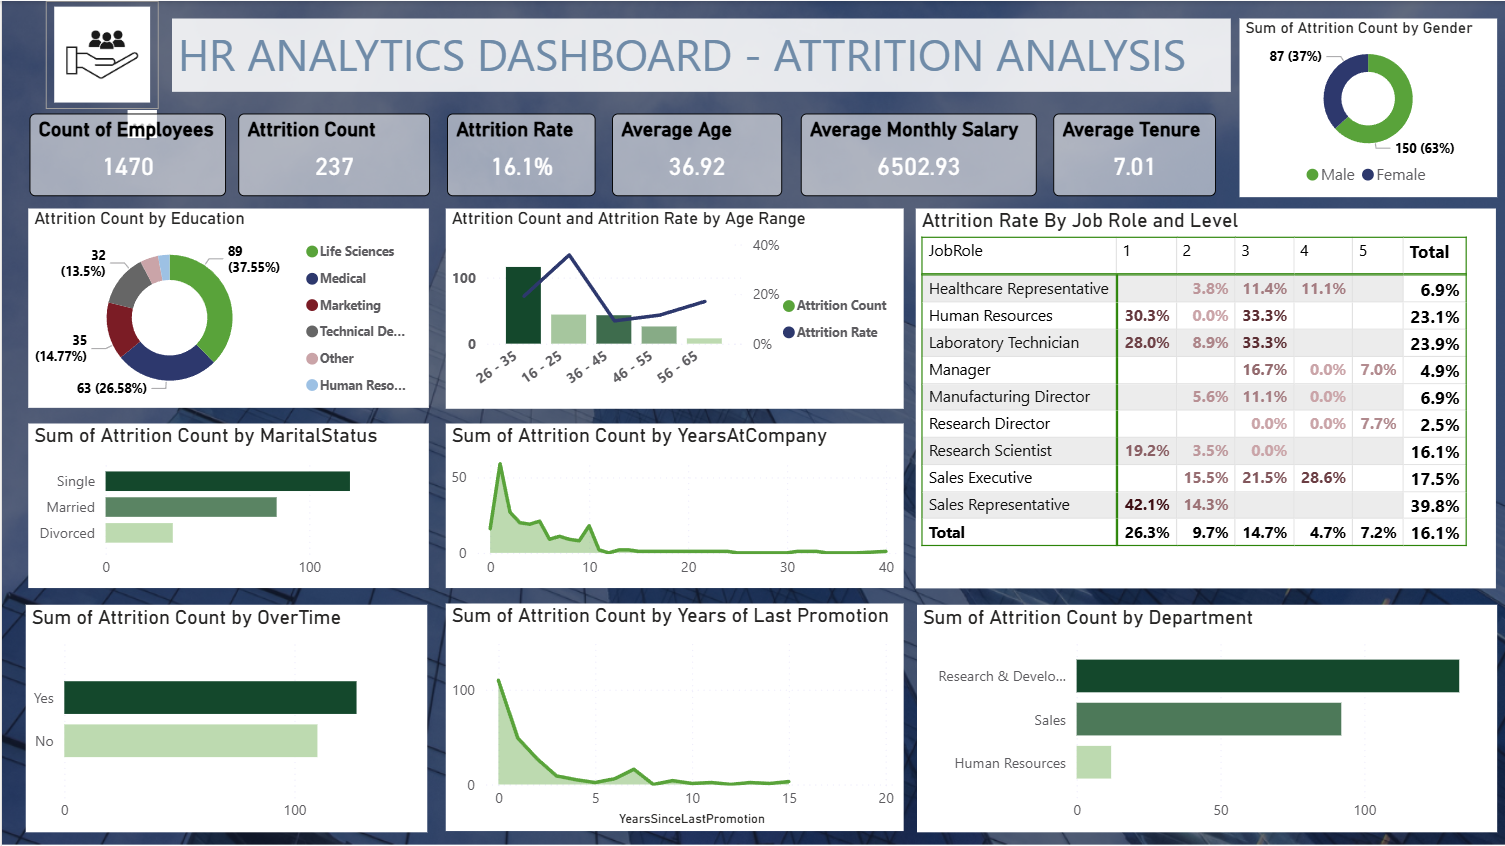

The page's visual inventory and layout, read from the dashboard file:
{"tool":"powerbi","page":{"name":"Page 1","canvas":[1280,720],"ordinal":0},"visuals":[{"type":"image","box":[37.4,0,95.6,91.5],"z":0},{"type":"textbox","box":[144.5,14.5,901,62.4],"z":1000},{"type":"card","title":"Count of Employees","fields":{"Values":["Count(HR_Project_Power BI.EmployeeNumber)"]},"box":[23.7,96,167.3,70.7],"z":2000},{"type":"card","title":"Attrition Count","fields":{"Values":["Sum(HR_Project_Power BI.Attrition Count)"]},"box":[201.4,96,163.2,70.7],"z":3000},{"type":"card","title":"Attrition Rate","fields":{"Values":["HR_Project_Power BI.Attrition Rate"]},"box":[378.1,96,126.8,70.7],"z":4000},{"type":"card","title":"Average Age","fields":{"Values":["Avg(HR_Project_Power BI.Age)"]},"box":[519.4,96,144.5,70.7],"z":5000},{"type":"card","title":"Average Monthly Salary","fields":{"Values":["Avg(HR_Project_Power BI.MonthlyIncome)"]},"box":[679.5,96,200.6,70.7],"z":6000},{"type":"card","title":"Average Tenure","fields":{"Values":["Avg(HR_Project_Power BI.YearsAtCompany)"]},"box":[894.6,96,138.2,70.7],"z":7000},{"type":"donutChart","fields":{"Y":["Sum(HR_Project_Power BI.Attrition Count)"],"Category":["HR_Project_Power BI.Gender"]},"box":[1052.8,14.5,219.3,151.7],"z":8000},{"type":"donutChart","fields":{"Y":["Sum(HR_Project_Power BI.Attrition Count)"],"Category":["HR_Project_Power BI.EducationField"]},"box":[22.9,176.7,340.9,169.4],"z":9000},{"type":"lineStackedColumnComboChart","fields":{"Category":["HR_Project_Power BI.Range"],"Y":["Sum(HR_Project_Power BI.Attrition Count)"],"Y2":["HR_Project_Power BI.Attrition Rate"]},"box":[377.5,176.2,389.5,170.2],"z":10000},{"type":"pivotTable","title":"Attrition Rate By Job Role and Level","fields":{"Rows":["HR_Project_Power BI.JobRole"],"Values":["HR_Project_Power BI.Attrition Rate"],"Columns":["HR_Project_Power BI.JobLevel"]},"box":[777.8,176.2,493.8,323.6],"z":11000},{"type":"areaChart","fields":{"Category":["HR_Project_Power BI.YearsAtCompany"],"Y":["Sum(HR_Project_Power BI.Attrition Count)"]},"box":[377.3,359.6,389.7,140.3],"z":12000},{"type":"clusteredBarChart","fields":{"Y":["Sum(HR_Project_Power BI.Attrition Count)"],"Category":["HR_Project_Power BI.MaritalStatus"]},"box":[22.9,359.6,340.9,140.3],"z":13000},{"type":"clusteredBarChart","fields":{"Y":["Sum(HR_Project_Power BI.Attrition Count)"],"Category":["HR_Project_Power BI.OverTime"]},"box":[20.1,513.8,341.7,193.4],"z":14000},{"type":"areaChart","title":"Sum of Attrition Count by Years of Last Promotion","fields":{"Category":["HR_Project_Power BI.YearsSinceLastPromotion"],"Y":["Sum(HR_Project_Power BI.Attrition Count)"]},"box":[377.2,513.1,389.4,193.9],"z":15000},{"type":"clusteredBarChart","fields":{"Y":["Sum(HR_Project_Power BI.Attrition Count)"],"Category":["HR_Project_Power BI.Department"]},"box":[778.4,513.4,493.7,193.3],"z":16000}]}

Visuals, with their boxes in screenshot pixels (x1, y1, x2, y2), scaled from the page's 1280x720 canvas onto the 1505x846 screenshot:
image: l=44, t=0, r=156, b=108
textbox: l=170, t=17, r=1229, b=90
"Count of Employees" card: l=28, t=113, r=225, b=196
"Attrition Count" card: l=237, t=113, r=429, b=196
"Attrition Rate" card: l=445, t=113, r=594, b=196
"Average Age" card: l=611, t=113, r=781, b=196
"Average Monthly Salary" card: l=799, t=113, r=1035, b=196
"Average Tenure" card: l=1052, t=113, r=1214, b=196
donutChart - Sum(HR_Project_Power BI.Attrition Count) x HR_Project_Power BI.Gender: l=1238, t=17, r=1496, b=195
donutChart - Sum(HR_Project_Power BI.Attrition Count) x HR_Project_Power BI.EducationField: l=27, t=208, r=428, b=407
lineStackedColumnComboChart - HR_Project_Power BI.Range x Sum(HR_Project_Power BI.Attrition Count): l=444, t=207, r=902, b=407
"Attrition Rate By Job Role and Level" pivotTable: l=915, t=207, r=1495, b=587
areaChart - HR_Project_Power BI.YearsAtCompany x Sum(HR_Project_Power BI.Attrition Count): l=444, t=423, r=902, b=587
clusteredBarChart - Sum(HR_Project_Power BI.Attrition Count) x HR_Project_Power BI.MaritalStatus: l=27, t=423, r=428, b=587
clusteredBarChart - Sum(HR_Project_Power BI.Attrition Count) x HR_Project_Power BI.OverTime: l=24, t=604, r=425, b=831
"Sum of Attrition Count by Years of Last Promotion" areaChart: l=444, t=603, r=901, b=831
clusteredBarChart - Sum(HR_Project_Power BI.Attrition Count) x HR_Project_Power BI.Department: l=915, t=603, r=1496, b=830
